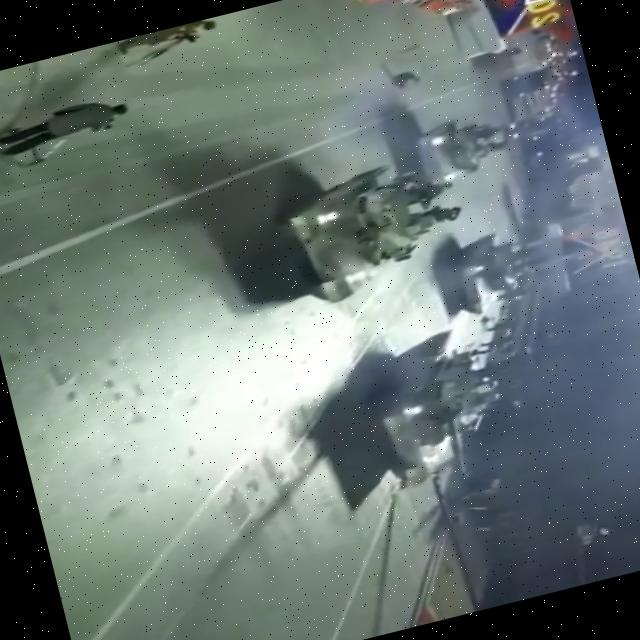north tank: (232, 136, 468, 318), (310, 322, 532, 514), (379, 78, 518, 198), (428, 220, 542, 318)
